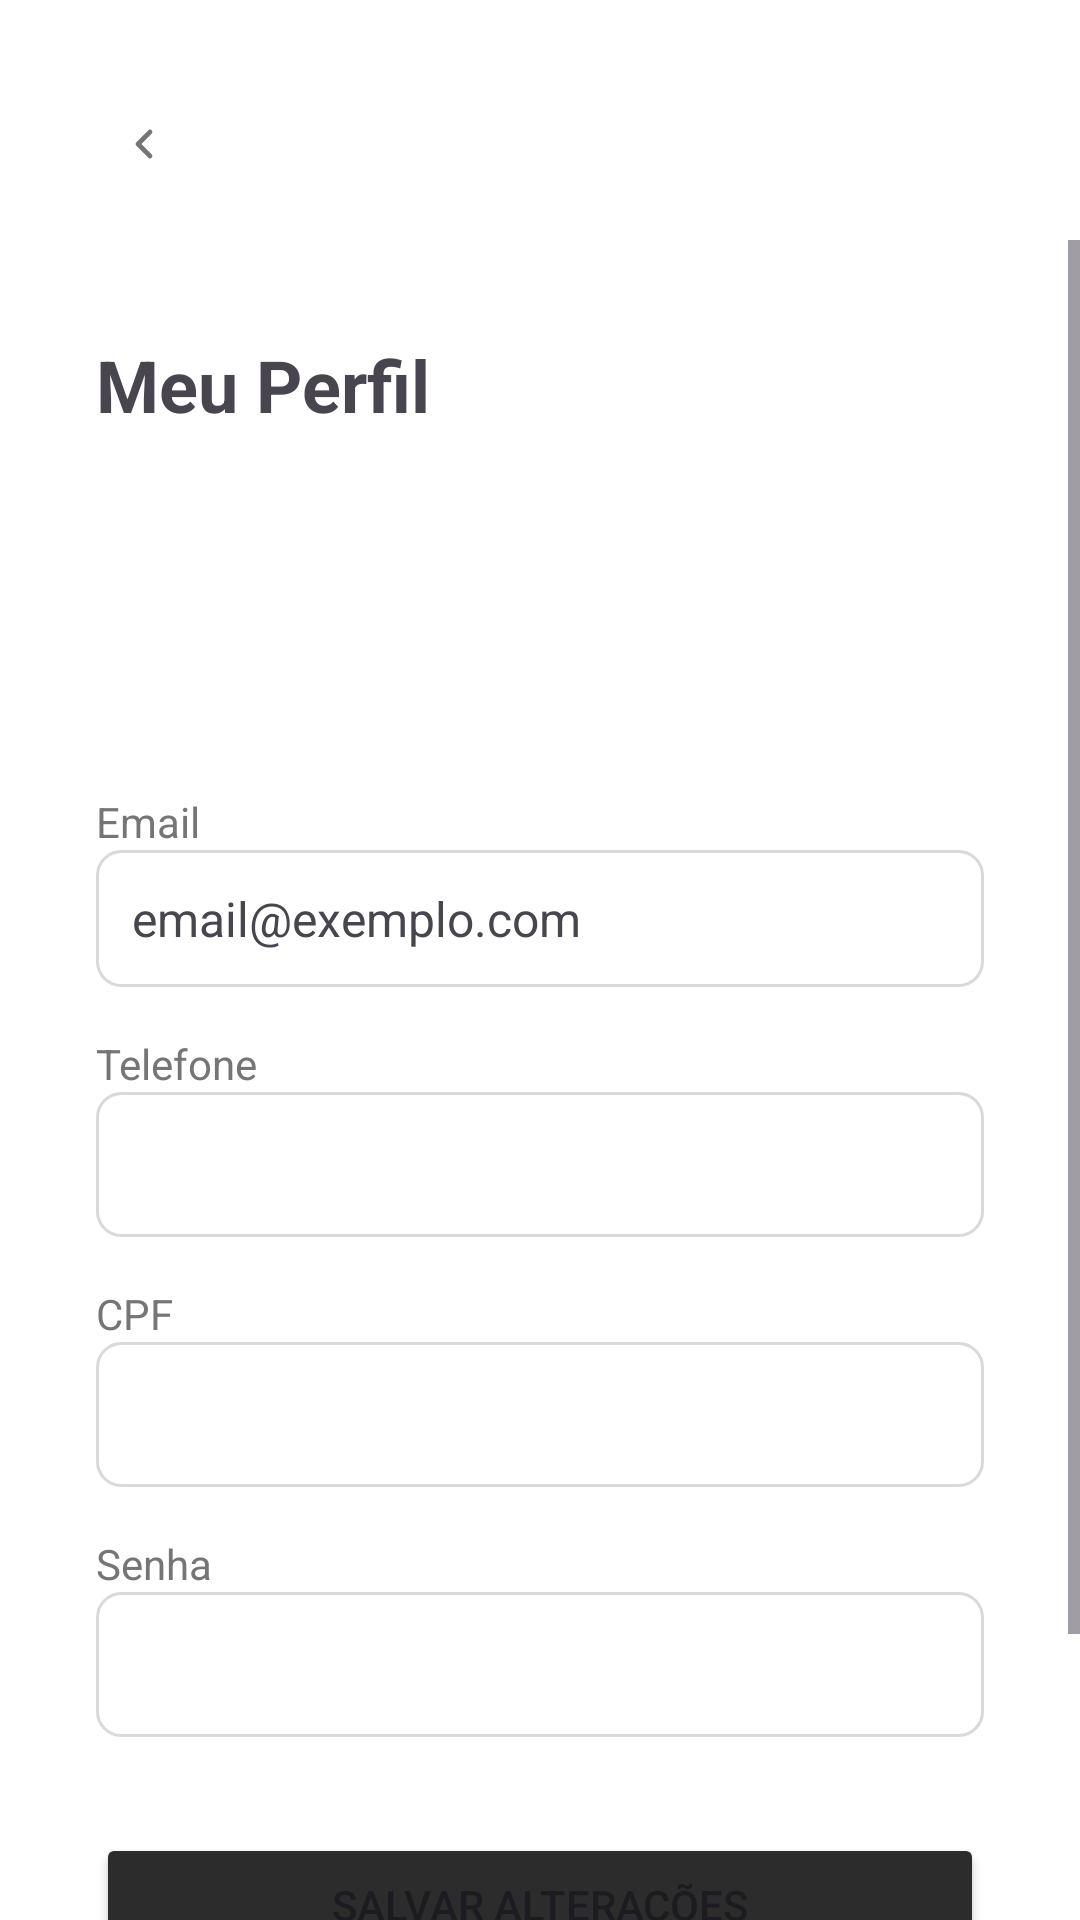

Point at icon controls on the screen. Image size 1080px×1920px, points as (x,y).
chevron left: (144,144)
